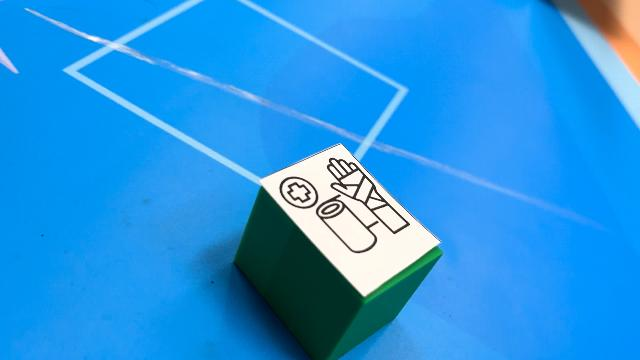bandage: (232, 143, 443, 359)
